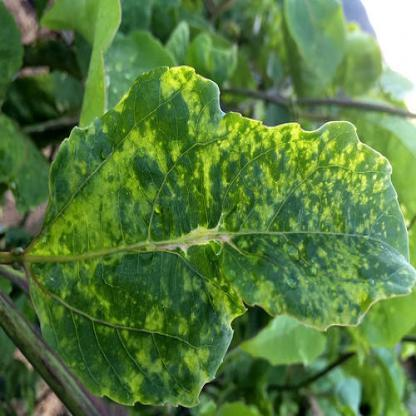tomato leaf mosaic virus: (13, 89, 403, 399)
